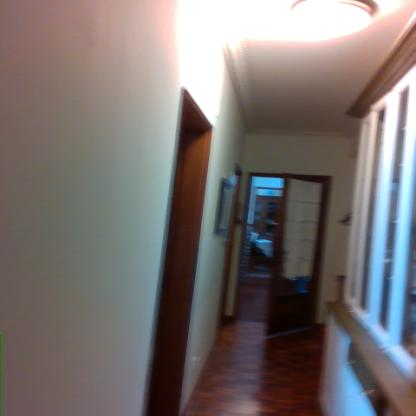semi: (223, 170, 336, 334)
